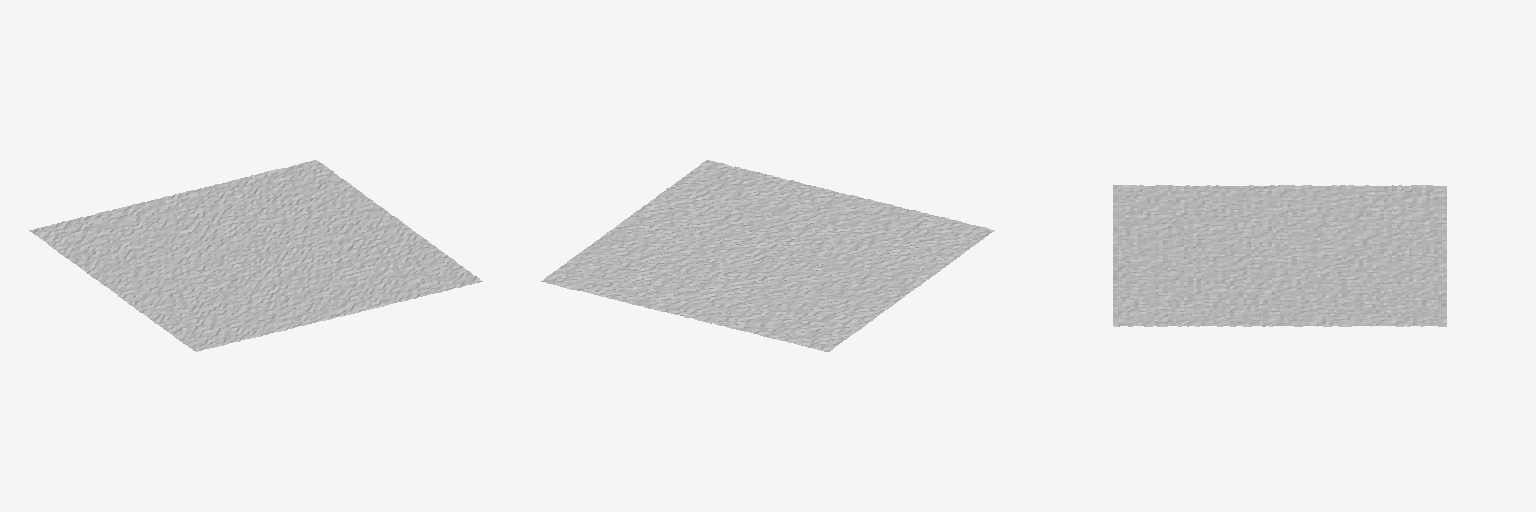
Rendered from stage.obj.
3 views of the same model, side by side, from view 1: azimuth 30°, elevation 25°; view 2: azimuth 150°, elevation 25°; view 3: azimuth 270°, elevation 25° (orthographic).
Visible parts, largest first — view 1: グリッド; view 2: グリッド; view 3: グリッド.
Part boxes in pixels (x1,y1,x2,y2): グリッド: (29, 160, 482, 351); グリッド: (541, 160, 994, 351); グリッド: (1113, 185, 1446, 326).
Size of the model in its own units: 142 by 0.5997 by 142.